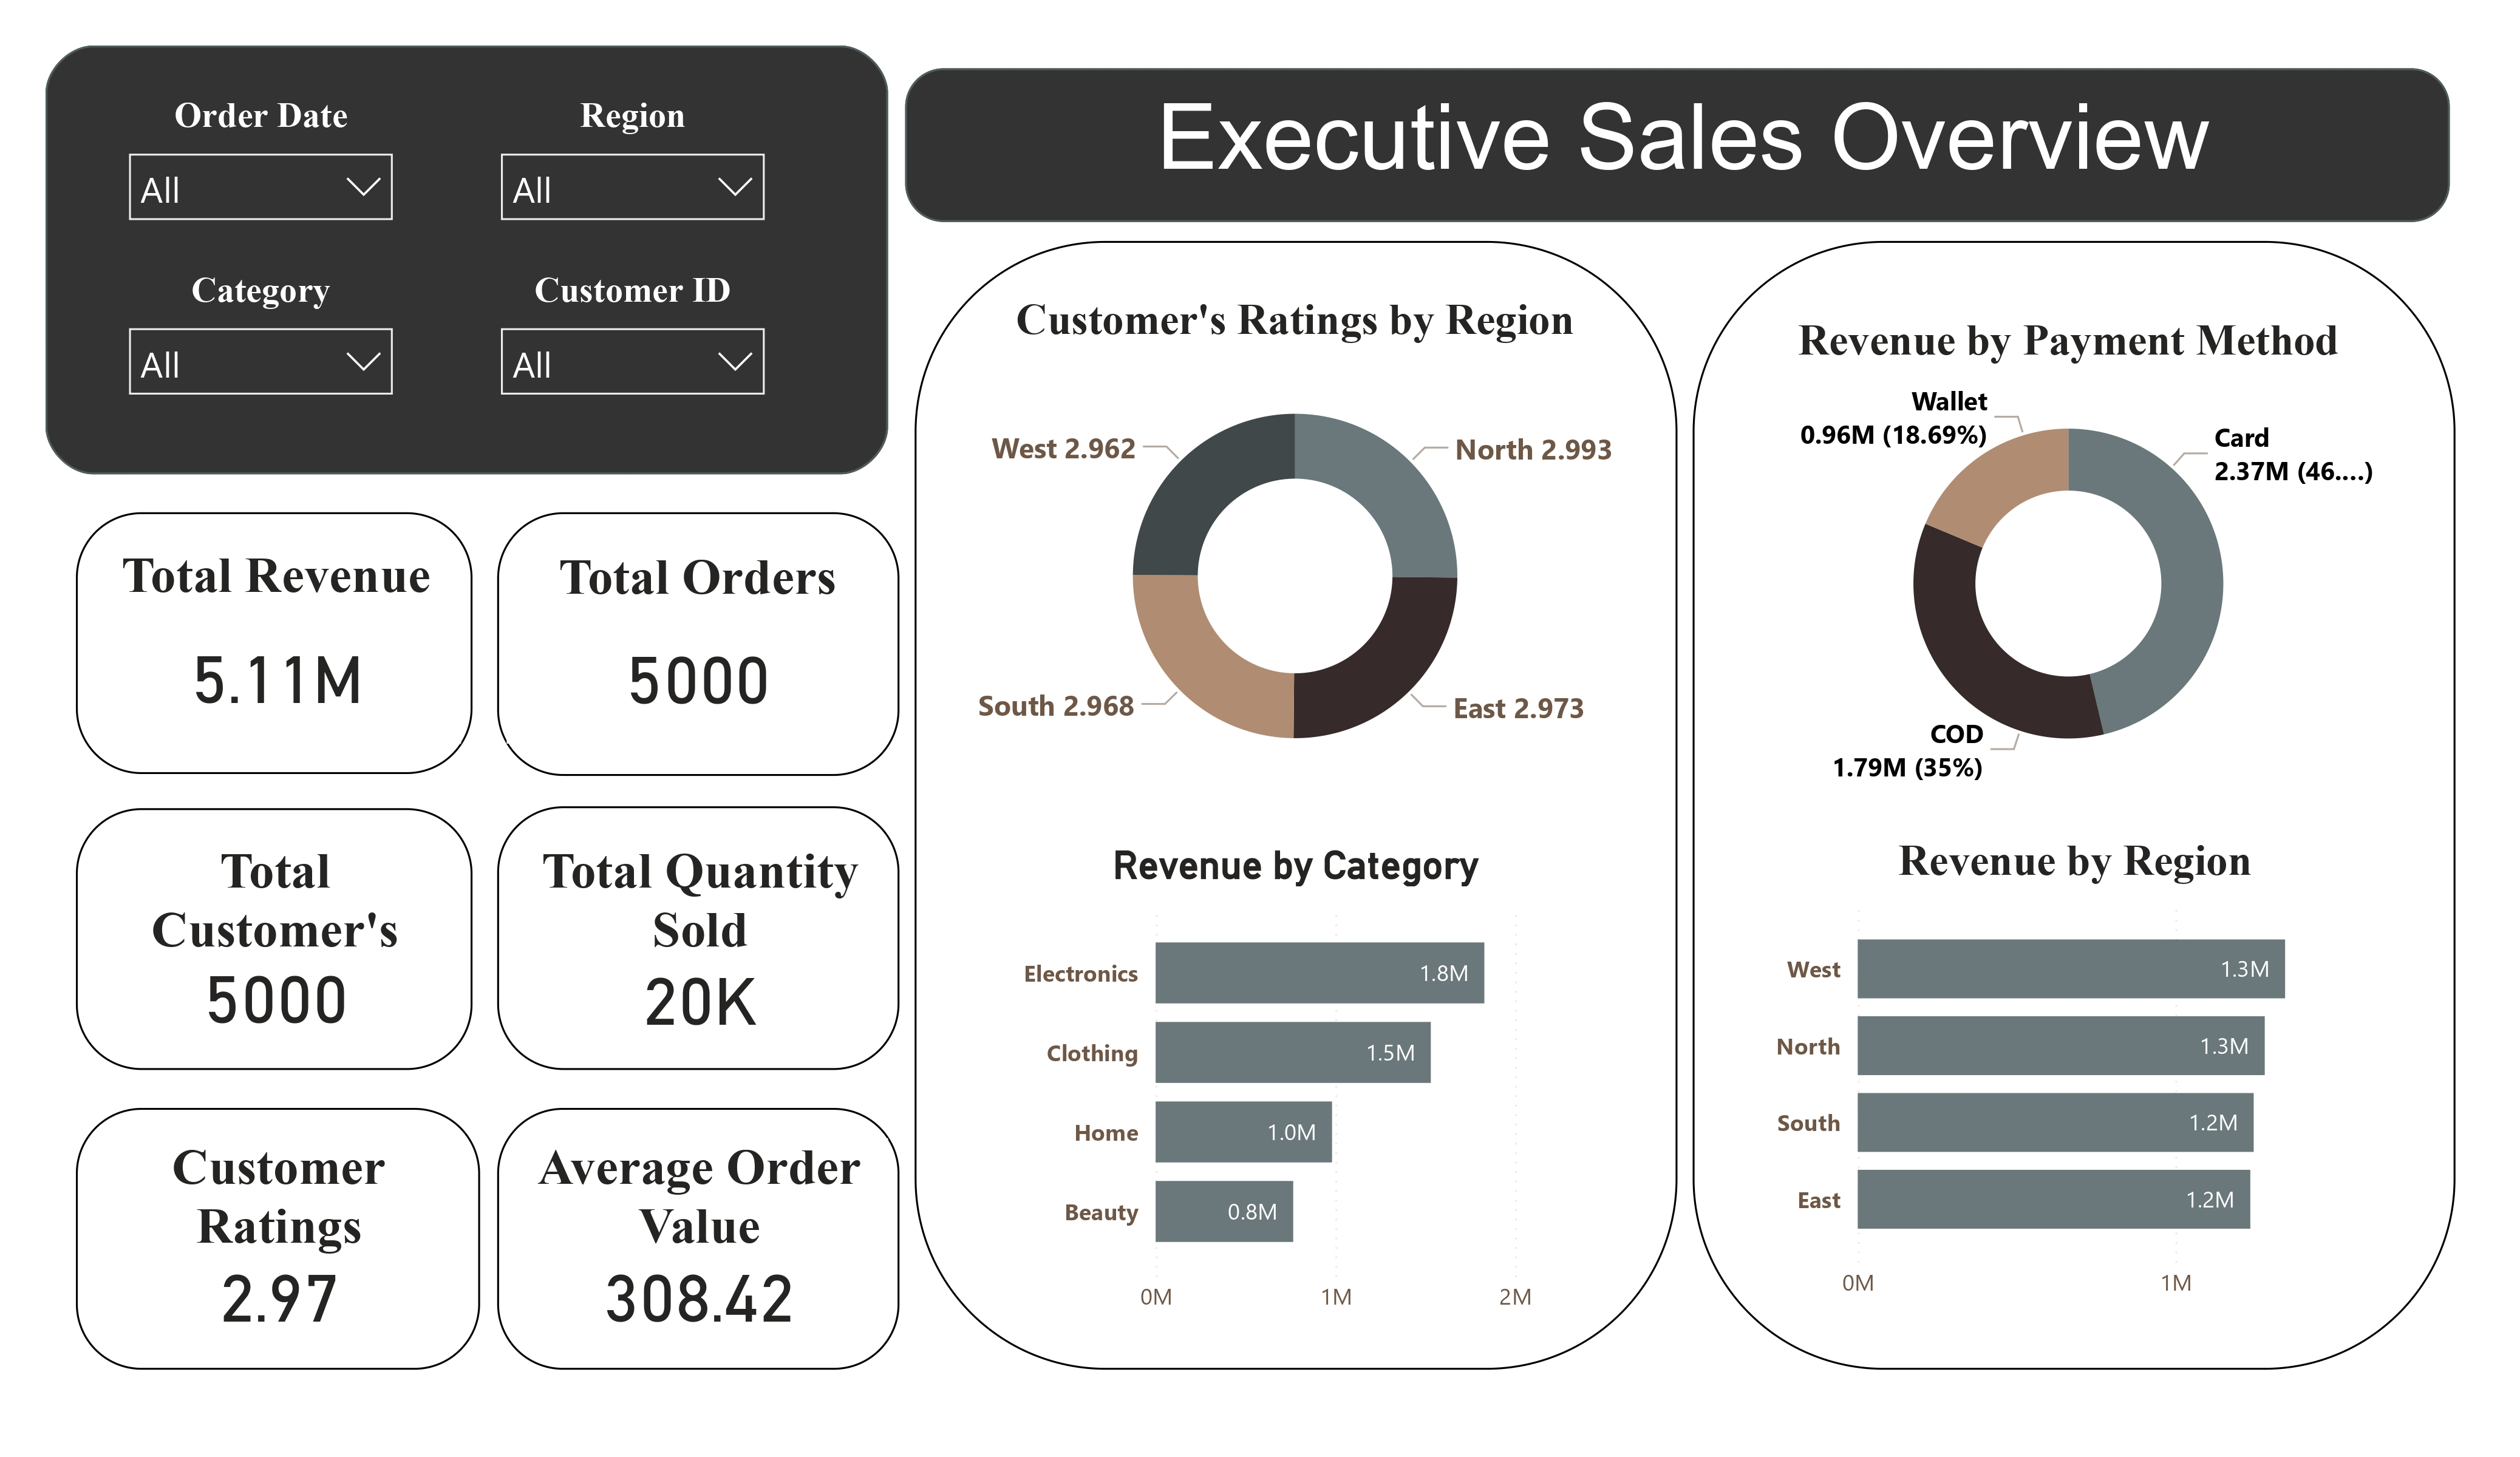

What the dashboard file says about the page in this screenshot:
{"tool":"powerbi","page":{"name":"Executive Sales Overview","canvas":[1280,720],"ordinal":0},"visuals":[{"type":"shape","box":[0,0,444.1,226.4],"z":0},{"type":"shape","box":[237.5,246.2,212.5,138.8],"z":1000},{"type":"shape","box":[16.2,246.3,209,138.1],"z":2000},{"type":"card","title":"Total Revenue ","fields":{"Values":["Sum(ecommerce_sales_analytics_5000.revenue)"]},"box":[23.8,263.8,195,103.8],"z":3000},{"type":"card","title":"Total Orders","fields":{"Values":["CountNonNull(ecommerce_sales_analytics_5000.order_id)"]},"box":[242.5,265,201.2,102.5],"z":4000},{"type":"shape","box":[16.2,401.8,209,138.1],"z":5000},{"type":"card","title":"Total Customer''s","fields":{"Values":["CountNonNull(ecommerce_sales_analytics_5000.customer_id)"]},"box":[23.8,420,193.8,101.2],"z":6000},{"type":"shape","box":[237.5,401.2,212.5,138.8],"z":7000},{"type":"card","title":"Total Quantity Sold","fields":{"Values":["Sum(ecommerce_sales_analytics_5000.quantity)"]},"box":[246.2,420,197.5,102.5],"z":8000},{"type":"shape","box":[16.2,560,212.5,137.5],"z":9000},{"type":"card","title":"Customer Ratings","fields":{"Values":["Avg(ecommerce_sales_analytics_5000.customer_rating)"]},"box":[27.5,576.2,190,103.8],"z":10000},{"type":"shape","box":[237.5,560,212.5,137.5],"z":11000},{"type":"card","title":"Average Order Value","fields":{"Values":["Avg(ecommerce_sales_analytics_5000.unit_price)"]},"box":[245,576.2,198.8,103.8],"z":12000},{"type":"shape","box":[867.5,102.5,402.5,595],"z":13000},{"type":"shape","box":[457.5,102.5,402.5,595],"z":14000},{"type":"barChart","title":"Revenue by Category","fields":{"Category":["ecommerce_sales_analytics_5000.product_category"],"Y":["Sum(ecommerce_sales_analytics_5000.revenue)"]},"box":[508.8,399.3,299.8,278.6],"z":15000},{"type":"donutChart","title":"Revenue by Payment Method","fields":{"Category":["ecommerce_sales_analytics_5000.payment_method"],"Y":["Sum(ecommerce_sales_analytics_5000.revenue)"]},"box":[897.5,142.5,336.2,256.2],"z":16000},{"type":"donutChart","title":"Customer''s Ratings by Region","fields":{"Y":["Avg(ecommerce_sales_analytics_5000.customer_rating)"],"Category":["ecommerce_sales_analytics_5000.region"]},"box":[491.4,131.9,334.6,269.9],"z":17000},{"type":"barChart","title":"Revenue by Region","fields":{"Category":["ecommerce_sales_analytics_5000.region"],"Y":["Sum(ecommerce_sales_analytics_5000.revenue)"]},"box":[905.6,399.3,327.2,271.2],"z":18000},{"type":"shape","box":[453.3,12.2,813.3,81.1],"z":19000},{"type":"textbox","box":[482.2,15.6,762.2,72.2],"z":20000},{"type":"slicer","title":"Category","fields":{"Values":["ecommerce_sales_analytics_5000.product_category"]},"box":[33.6,118.2,159.2,87.1],"z":21000},{"type":"slicer","title":"Region","fields":{"Values":["ecommerce_sales_analytics_5000.region"]},"box":[230.1,26.1,159.2,87.1],"z":22000},{"type":"slicer","title":"Order Date","fields":{"Values":["ecommerce_sales_analytics_5000.order_date"]},"box":[33.6,26.1,159.2,87.1],"z":23000},{"type":"slicer","title":"Customer ID","fields":{"Values":["ecommerce_sales_analytics_5000.customer_id"]},"box":[230.1,118.2,159.2,87.1],"z":24000}]}

Visuals, with their boxes on the page's 1280x720 design canvas (x1, y1, x2, y2). These are canvas units, not pixel positions in the 2520x1457 screenshot, which may show the page scaled, cropped or inside an application window:
shape: box(0, 0, 444, 226)
shape: box(238, 246, 450, 385)
shape: box(16, 246, 225, 384)
"Total Revenue " card: box(24, 264, 219, 368)
"Total Orders" card: box(242, 265, 444, 368)
shape: box(16, 402, 225, 540)
"Total Customer''s" card: box(24, 420, 218, 521)
shape: box(238, 401, 450, 540)
"Total Quantity Sold" card: box(246, 420, 444, 522)
shape: box(16, 560, 229, 698)
"Customer Ratings" card: box(28, 576, 218, 680)
shape: box(238, 560, 450, 698)
"Average Order Value" card: box(245, 576, 444, 680)
shape: box(868, 102, 1270, 698)
shape: box(458, 102, 860, 698)
"Revenue by Category" barChart: box(509, 399, 809, 678)
"Revenue by Payment Method" donutChart: box(898, 142, 1234, 399)
"Customer''s Ratings by Region" donutChart: box(491, 132, 826, 402)
"Revenue by Region" barChart: box(906, 399, 1233, 670)
shape: box(453, 12, 1267, 93)
textbox: box(482, 16, 1244, 88)
"Category" slicer: box(34, 118, 193, 205)
"Region" slicer: box(230, 26, 389, 113)
"Order Date" slicer: box(34, 26, 193, 113)
"Customer ID" slicer: box(230, 118, 389, 205)
